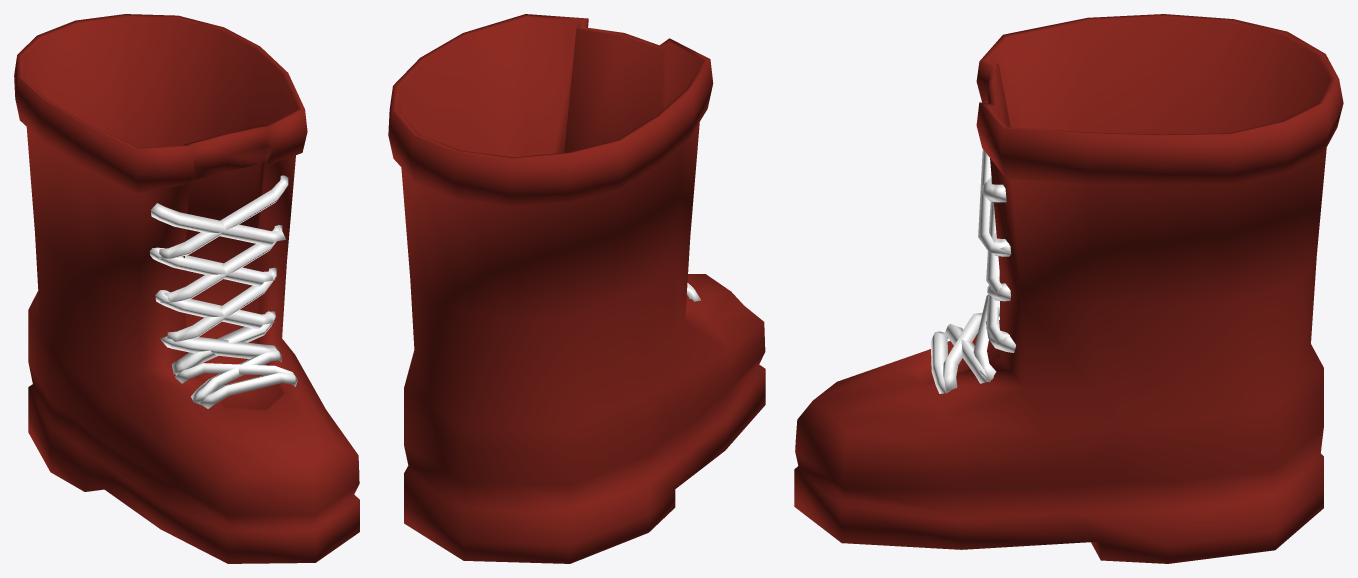
The model's file is laceupbootsleft 2.fbx.
3 renders of one model, left to right at view 1: azimuth 30°, elevation 25°; view 2: azimuth 150°, elevation 25°; view 3: azimuth 270°, elevation 25°, orthographic. The views are drawn at different scales.
Parts seen in each view (by area): view 1: LaceUpBootsLeft; view 2: LaceUpBootsLeft; view 3: LaceUpBootsLeft.
Boxes of the visible parts, left/top/right/bottom form: LaceUpBootsLeft: left=14, top=14, right=359, bottom=563; LaceUpBootsLeft: left=388, top=14, right=765, bottom=563; LaceUpBootsLeft: left=794, top=14, right=1343, bottom=563.
Bounding box in the file's own units: 24.91 × 46.45 × 40.42.
